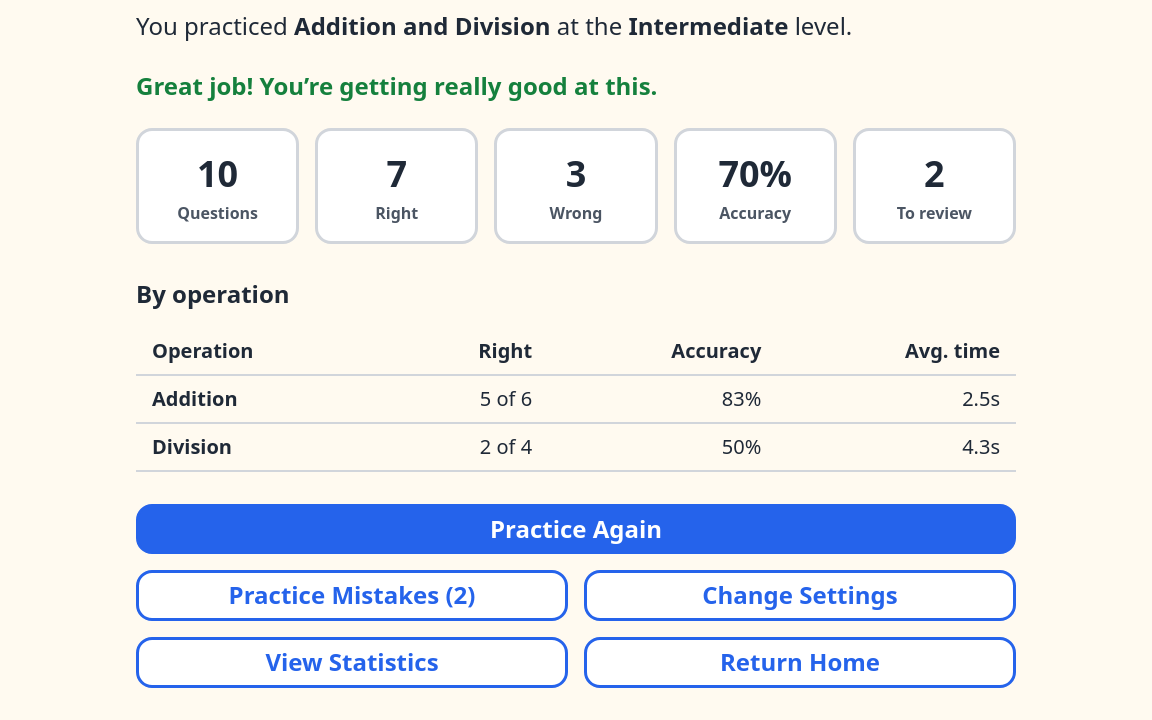
PracticeSummaryPage › Practice Mistakes asks only the questions that were marked wrong
(page scrolled)
Step 1. Click the link "Practice Mistakes (2)" → (352, 596), box [136,570,568,621]
(page scrolled)
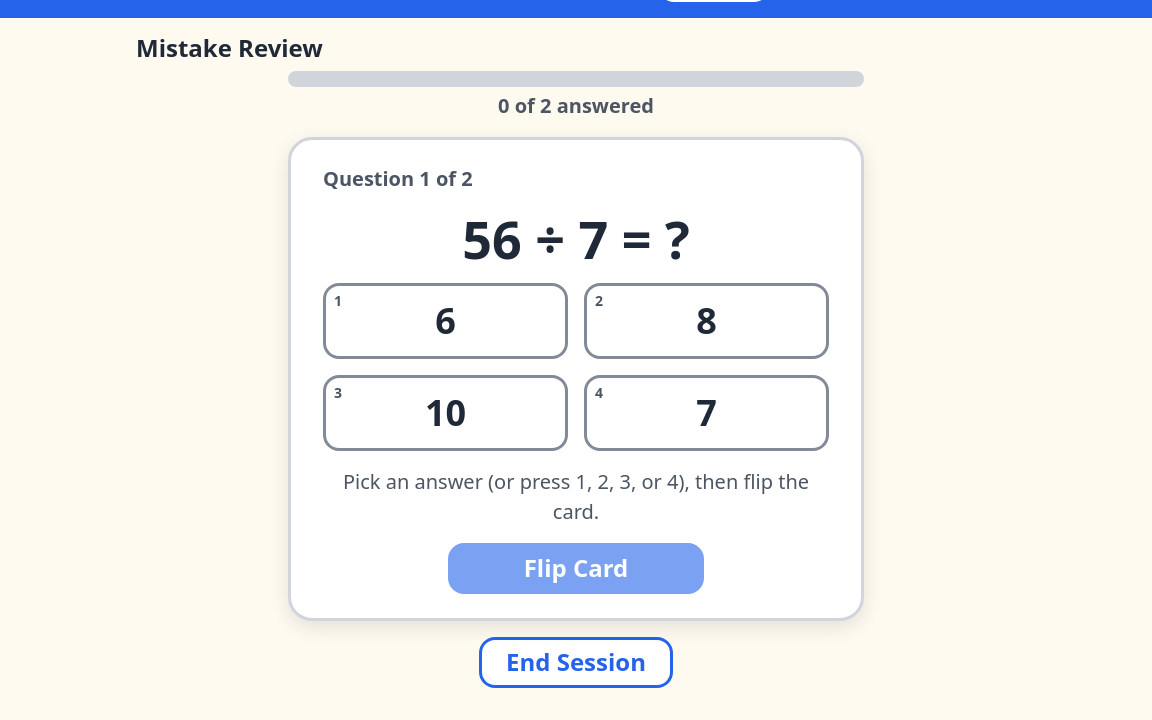
Now the heading "Mistake Review" is shown, box [136,31,323,64]
Now the text "Question 1 of 2" is shown, box [323,165,473,192]
Now the heading "56 ÷ 7 = ?" is shown, box [462,203,690,274]
